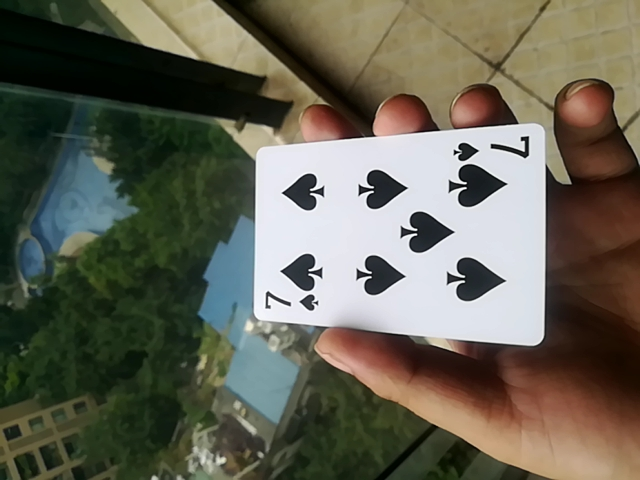ht 7: (248, 116, 555, 354)
